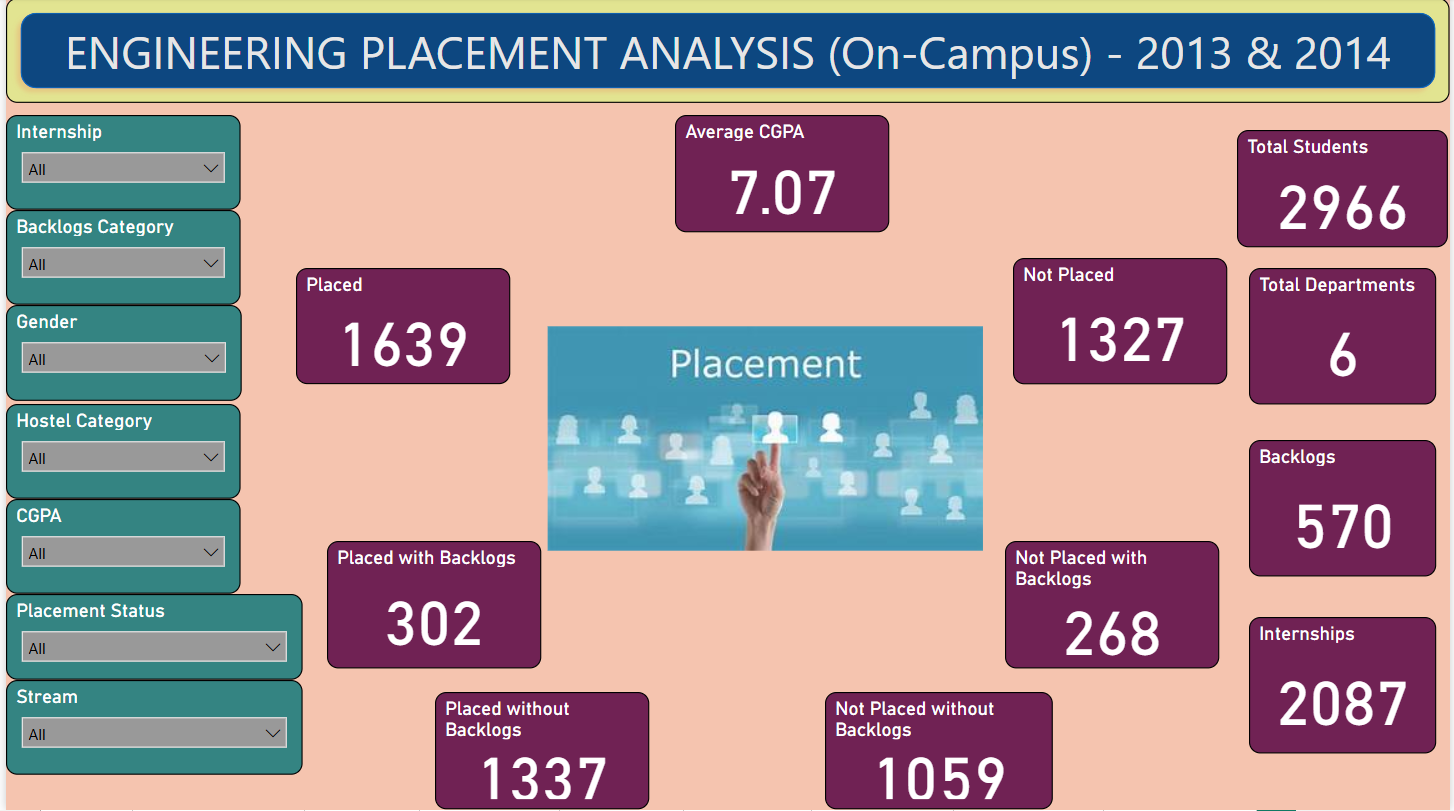

This screenshot's page, from the dashboard's own definition file:
{"tool":"powerbi","page":{"name":"Overview","canvas":[1280,720],"ordinal":0},"visuals":[{"type":"shape","box":[0,0,1280.4,93.1],"z":0},{"type":"card","title":"Total Students","fields":{"Values":["CountNonNull(collegePlace.Age)"]},"box":[1091.5,117,187.1,103.7],"z":1000},{"type":"card","title":"Total Departments","fields":{"Values":["Count(collegePlace.Stream)"]},"box":[1102.2,239.4,165.8,120.6],"z":2000},{"type":"card","title":"Backlogs","fields":{"Values":["Sum(collegePlace.HistoryOfBacklogs)"]},"box":[1102.2,391.9,165.8,120.6],"z":3000},{"type":"card","title":"Internships","fields":{"Values":["Sum(collegePlace.Internships)"]},"box":[1102.2,548.9,165.8,120.6],"z":4000},{"type":"card","title":"Average CGPA","fields":{"Values":["Avg(collegePlace.CGPA)"]},"box":[593.3,104.1,189.7,104.1],"z":5000},{"type":"card","title":"Placed","fields":{"Values":["collegePlace.cpcount"]},"box":[256.8,239.3,189.7,103.1],"z":6000},{"type":"card","title":"Not Placed","fields":{"Values":["collegePlace.cnpcount"]},"box":[892.9,230.5,189.7,111.9],"z":7000},{"type":"card","title":"Placed with Backlogs","fields":{"Values":["collegePlace.cpwitharrears"]},"box":[285,481.5,189.7,112.8],"z":8000},{"type":"card","title":"Placed without Backlogs","fields":{"Values":["collegePlace.cpwithoutarrears"]},"box":[380.3,615.7,189.7,104.1],"z":9000},{"type":"card","title":"Not Placed with Backlogs","fields":{"Values":["collegePlace.cnpwitharrears"]},"box":[886.1,481.5,189.7,112.8],"z":10000},{"type":"card","title":"Not Placed without Backlogs","fields":{"Values":["collegePlace.cnpwithoutarrears"]},"box":[726.6,615.7,202.3,104.1],"z":11000},{"type":"slicer","title":"Backlogs Category","fields":{"Values":["collegePlace.Backlogs Category"]},"box":[0,188,208.4,84.2],"z":12000},{"type":"slicer","title":"Stream","fields":{"Values":["collegePlace.Stream"]},"box":[0,604.7,263.3,84.2],"z":13000},{"type":"slicer","title":"Hostel Category","fields":{"Values":["collegePlace.Hostel Category"]},"box":[0,360,208.4,84.2],"z":14000},{"type":"slicer","title":"Placement Status","fields":{"Values":["collegePlace.placement status"]},"box":[0,528.5,263.3,76.3],"z":16000},{"type":"slicer","title":"Internship ","fields":{"Values":["collegePlace.Internships"]},"box":[0,103.7,208.4,84.2],"z":17000},{"type":"slicer","title":"CGPA","fields":{"Values":["collegePlace.CGPA"]},"box":[0,444.2,208.4,84.2],"z":18000},{"type":"slicer","title":"Gender","fields":{"Values":["collegePlace.Gender"]},"box":[0,272.2,209.3,85.1],"z":19000},{"type":"image","box":[475.6,186.7,395.9,407.5],"z":20000}]}

Visuals, with their boxes in screenshot pixels (x1, y1, x2, y2), scaled from the page's 1280x720 canvas onto the 1454x811 screenshot:
shape: <bbox>0, 0, 1453, 105</bbox>
"Total Students" card: <bbox>1240, 132, 1452, 249</bbox>
"Total Departments" card: <bbox>1252, 270, 1440, 406</bbox>
"Backlogs" card: <bbox>1252, 441, 1440, 577</bbox>
"Internships" card: <bbox>1252, 618, 1440, 754</bbox>
"Average CGPA" card: <bbox>674, 117, 889, 235</bbox>
"Placed" card: <bbox>292, 270, 507, 386</bbox>
"Not Placed" card: <bbox>1014, 260, 1230, 386</bbox>
"Placed with Backlogs" card: <bbox>324, 542, 539, 669</bbox>
"Placed without Backlogs" card: <bbox>432, 694, 647, 810</bbox>
"Not Placed with Backlogs" card: <bbox>1007, 542, 1222, 669</bbox>
"Not Placed without Backlogs" card: <bbox>825, 694, 1055, 810</bbox>
"Backlogs Category" slicer: <bbox>0, 212, 237, 307</bbox>
"Stream" slicer: <bbox>0, 681, 299, 776</bbox>
"Hostel Category" slicer: <bbox>0, 406, 237, 500</bbox>
"Placement Status" slicer: <bbox>0, 595, 299, 681</bbox>
"Internship " slicer: <bbox>0, 117, 237, 212</bbox>
"CGPA" slicer: <bbox>0, 500, 237, 595</bbox>
"Gender" slicer: <bbox>0, 307, 238, 402</bbox>
image: <bbox>540, 210, 990, 669</bbox>
